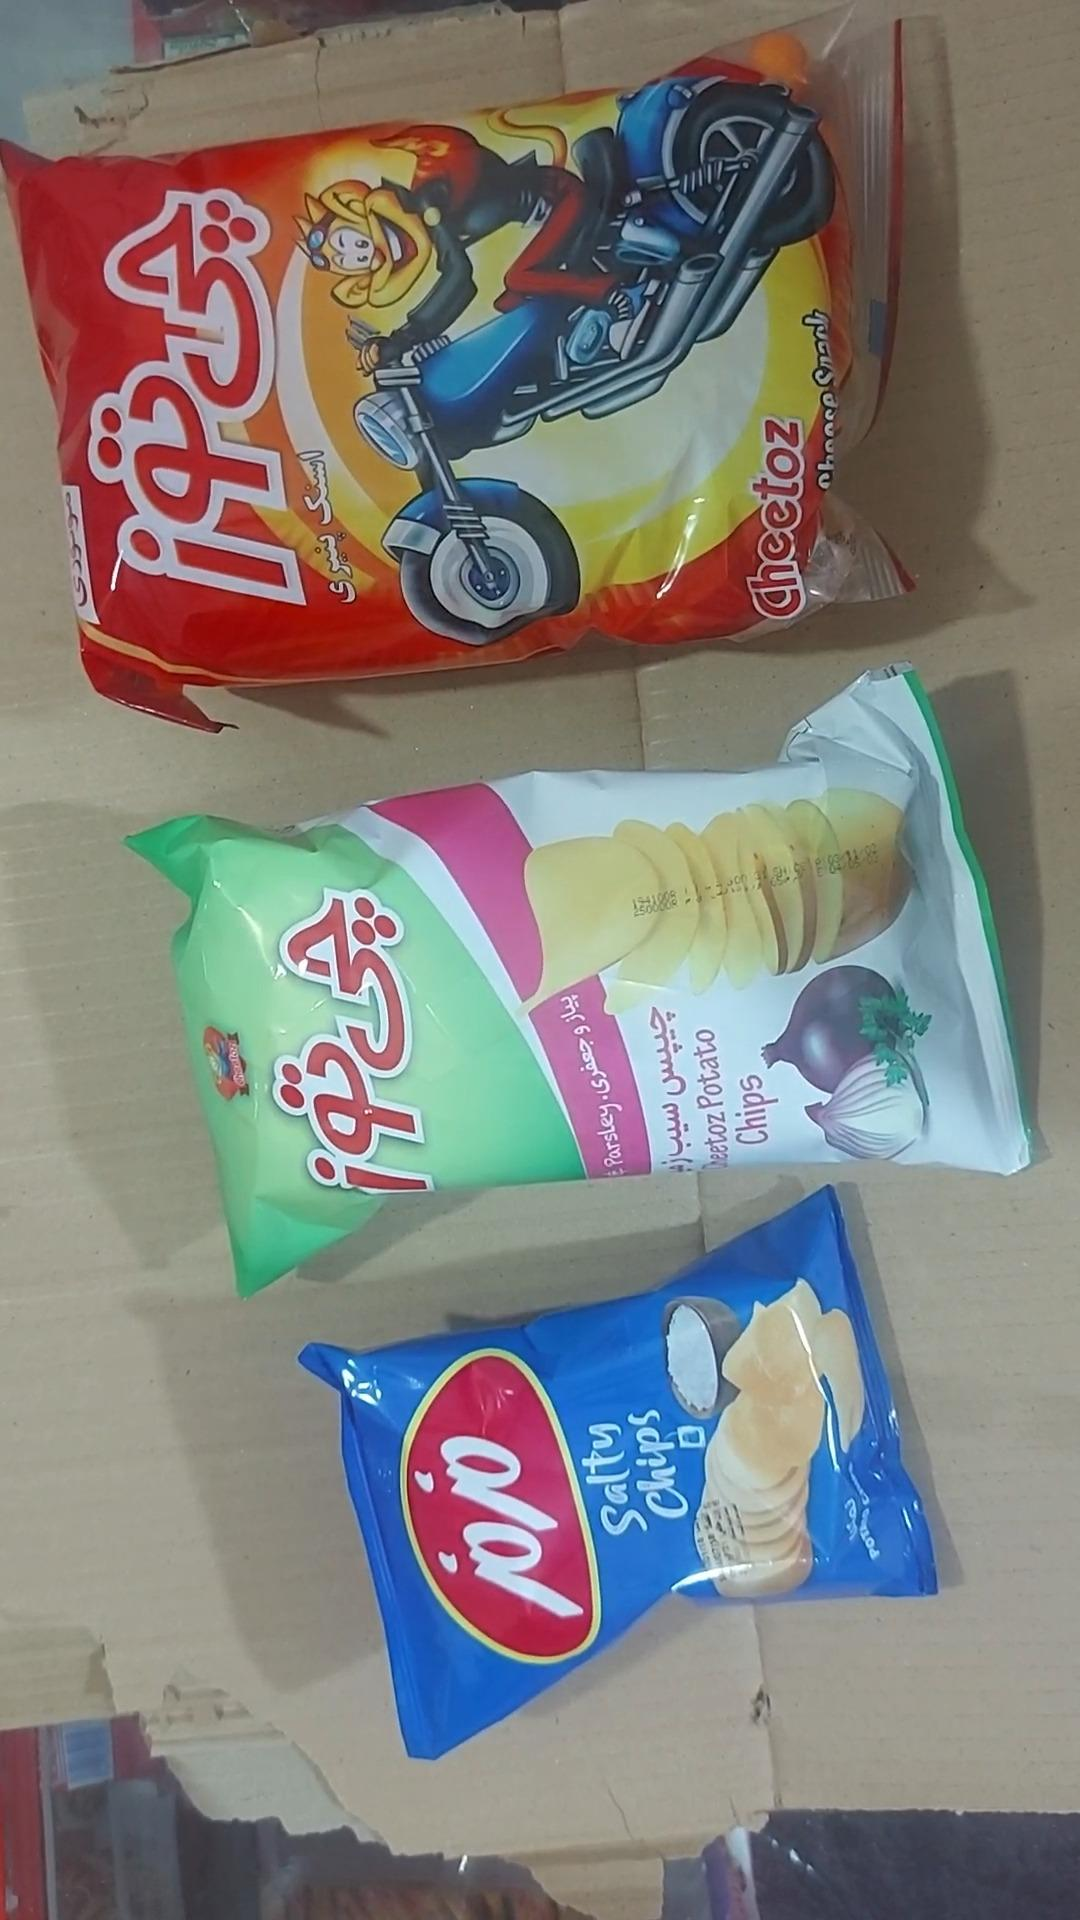Cheetoz onion and parsley chips: (123, 665, 1040, 1302)
Cheetoz snack 90g: (0, 0, 919, 738)
Maz Maz salty chips: (298, 1189, 940, 1764)
